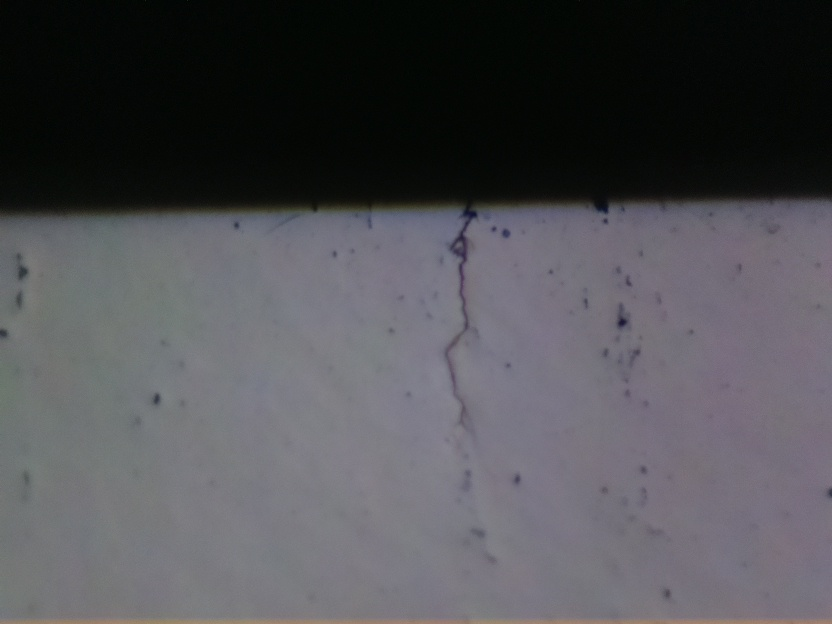crack: (433, 204, 490, 447)
